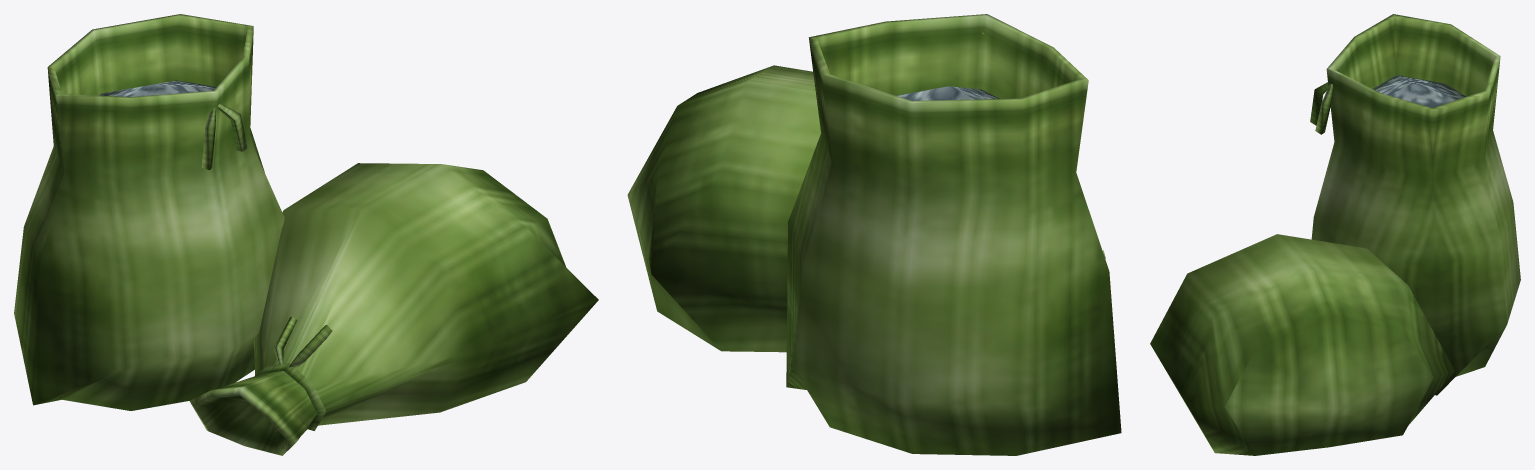
Rendered from a_SWGubag01.glb.
3 renders of one model, left to right at view 1: azimuth 30°, elevation 25°; view 2: azimuth 150°, elevation 25°; view 3: azimuth 270°, elevation 25°, orthographic. The views are drawn at different scales.
Visible parts, largest first — view 1: a_SWGubag01; view 2: a_SWGubag01; view 3: a_SWGubag01.
Boxes of the visible parts, left/top/right/bottom form: a_SWGubag01: left=14, top=14, right=598, bottom=455; a_SWGubag01: left=627, top=14, right=1121, bottom=455; a_SWGubag01: left=1150, top=14, right=1520, bottom=455.
Bounding box in the file's own units: 1.24 × 0.814 × 0.9641.
1 material, 1 textured.
